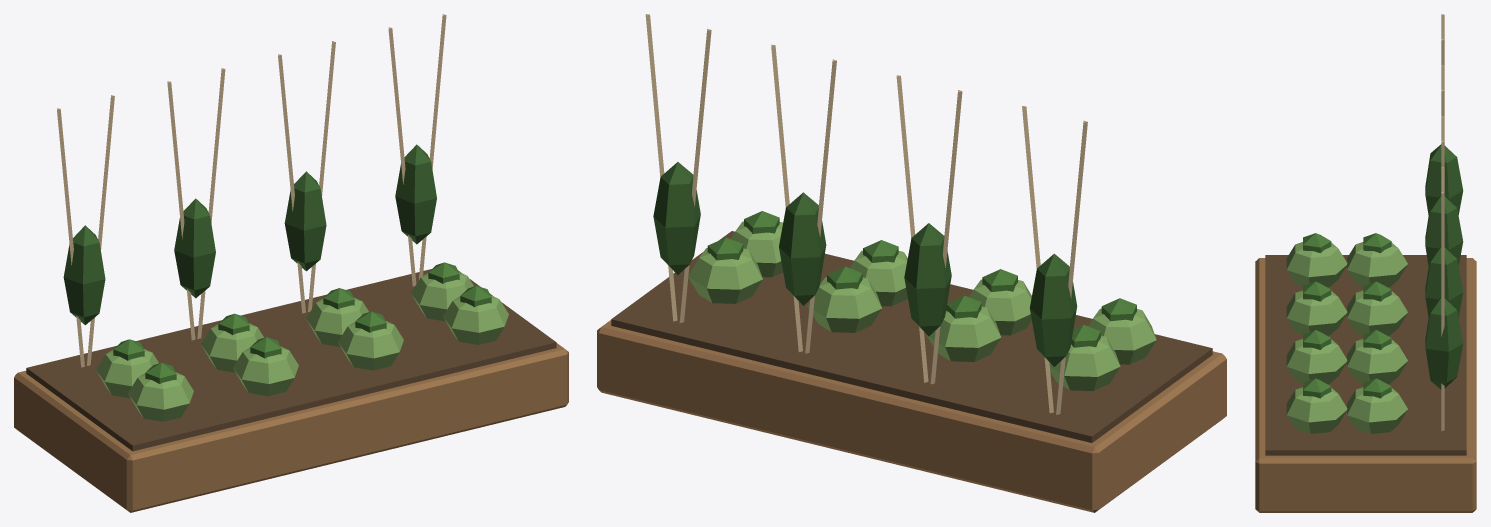
The model's file is veg_bed.glb.
3 views of the same model, side by side, from view 1: azimuth 30°, elevation 25°; view 2: azimuth 150°, elevation 25°; view 3: azimuth 270°, elevation 25° (orthographic). The views are drawn at different scales.
Visible parts, largest first — view 1: veg_bed; view 2: veg_bed; view 3: veg_bed.
Part boxes in pixels (x1,y1,x2,y2): veg_bed: [14, 14, 568, 512]; veg_bed: [597, 14, 1226, 512]; veg_bed: [1255, 14, 1476, 512].
Bounding box in the file's own units: 2.4 × 1.7 × 1.1.
